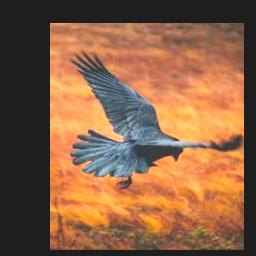Crow: (69, 49, 244, 188)
